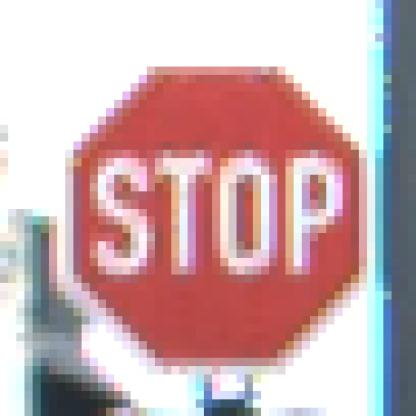stop: (54, 51, 388, 378)
